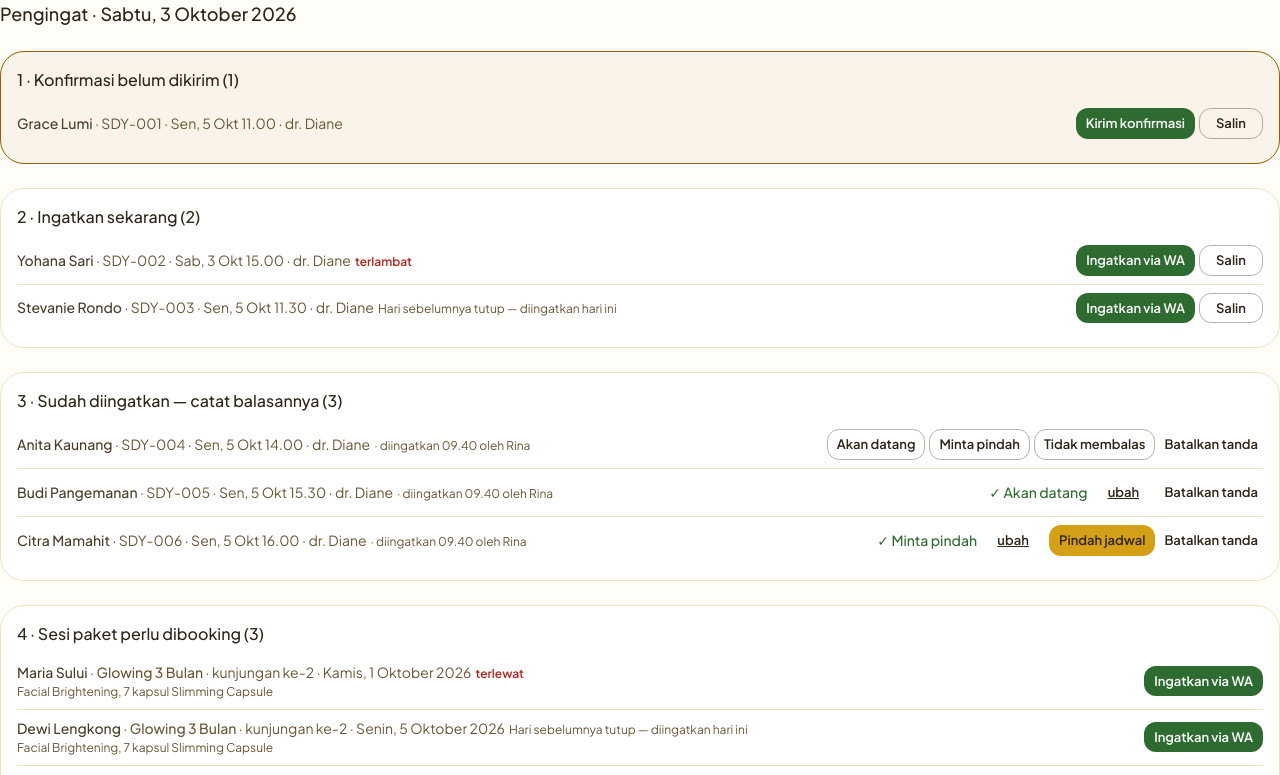
Test: ReminderWorklistView › balasan Minta pindah menawarkan Pindah jadwal
Click the button "Pindah jadwal". click: (1102, 540)
box: [1049,525,1155,556]
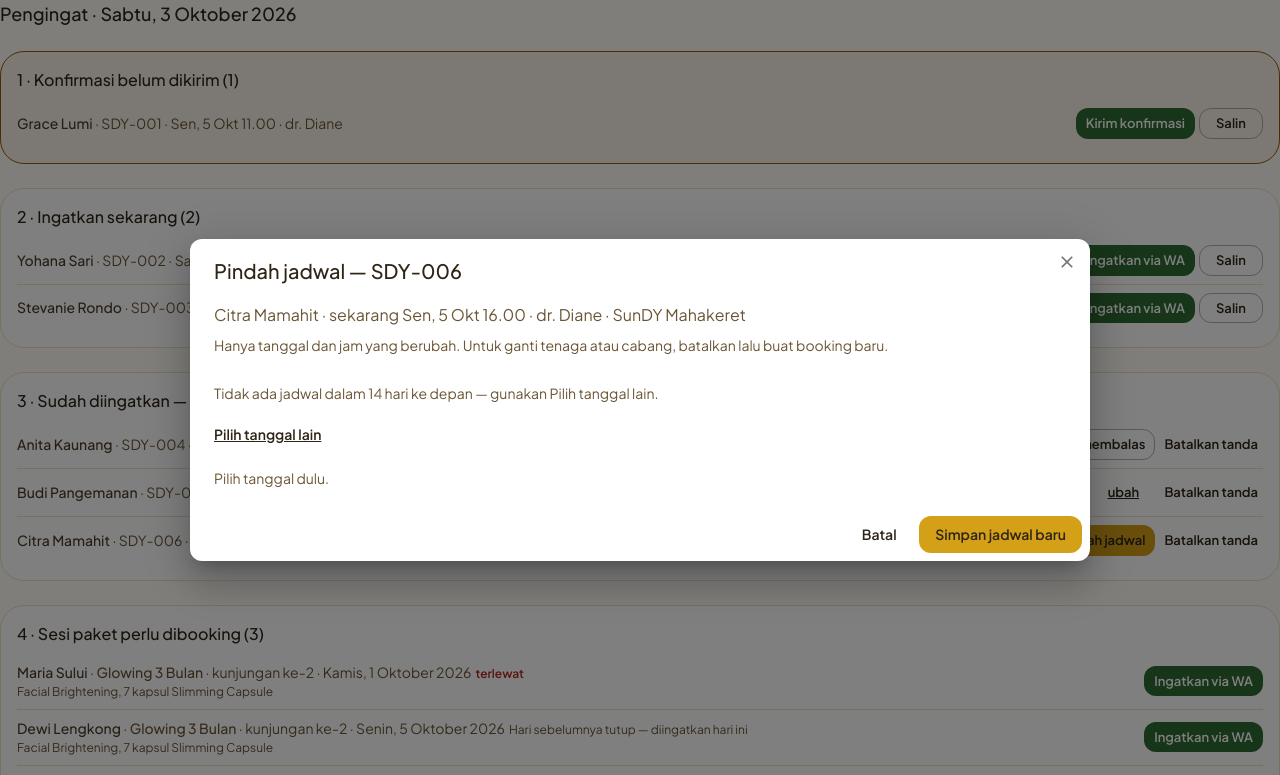
Result: the dialog "Pindah jadwal — SDY-006" is shown at [190,240,1090,560]
